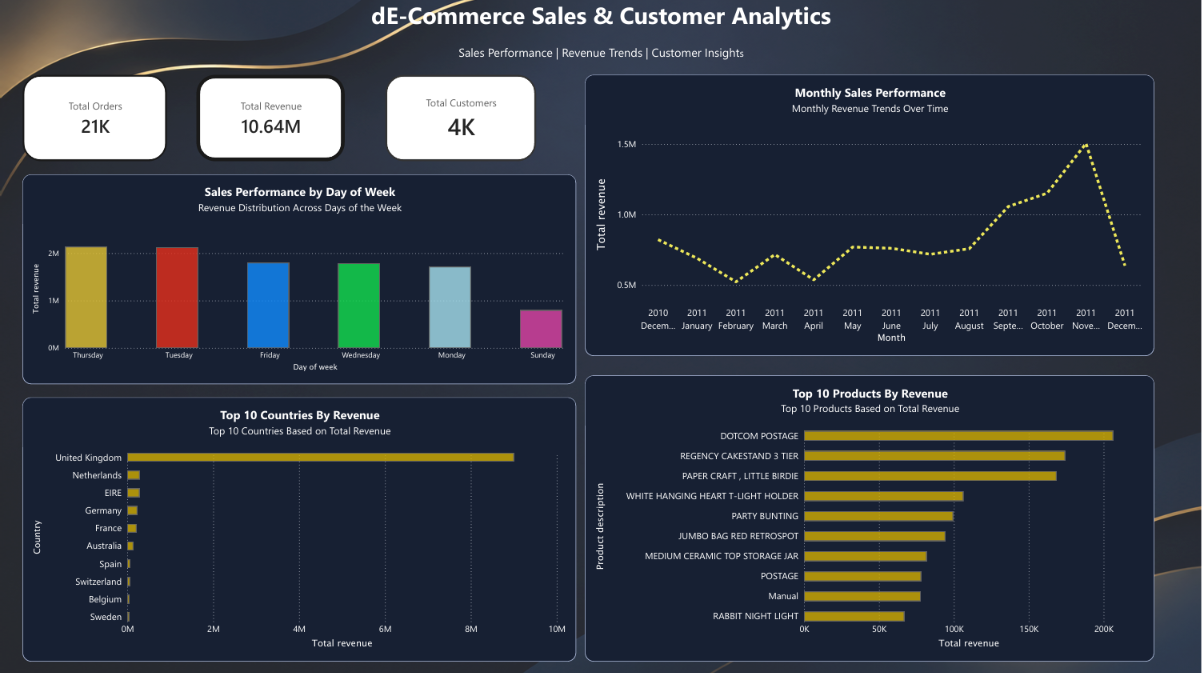

The page's visual inventory and layout, read from the dashboard file:
{"tool":"powerbi","page":{"name":"Page 1","canvas":[1920,1080],"ordinal":0},"visuals":[{"type":"textbox","box":[10,0,280,280],"z":0},{"type":"textbox","box":[0,0,1920.4,94.7],"z":1000},{"type":"textbox","box":[0,72,1920.4,67.9],"z":2000},{"type":"cardVisual","fields":{"Data":["cleaned_online_retail.Total Orders"]},"box":[35,121.4,230.5,137.9],"z":3000},{"type":"cardVisual","fields":{"Data":["cleaned_online_retail.Total Revenue"]},"box":[312.9,121.4,236.7,137.9],"z":4000},{"type":"cardVisual","fields":{"Data":["cleaned_online_retail.Total Customers"]},"box":[615.4,121.4,240.8,137.9],"z":5000},{"type":"lineChart","title":"Monthly Sales Performance","fields":{"Category":["cleaned_online_retail.MonthSales.Variation.Date Hierarchy.Year","cleaned_online_retail.MonthSales.Variation.Date Hierarchy.Month"],"Y":["Sum(cleaned_online_retail.TotalPrice)"]},"box":[934.5,121.4,909.8,448.7],"z":6000},{"type":"clusteredBarChart","title":"Top 10 Products By Revenue","fields":{"Category":["cleaned_online_retail.Description"],"Y":["Sum(cleaned_online_retail.TotalPrice)"]},"box":[934.5,601,909.8,456.9],"z":7000},{"type":"clusteredBarChart","title":"Top 10 Countries By Revenue","fields":{"Category":["cleaned_online_retail.Country"],"Y":["Sum(cleaned_online_retail.TotalPrice)"]},"box":[35,636,885.1,422],"z":8000},{"type":"clusteredColumnChart","title":"Sales Performance by Day of Week","fields":{"Category":["cleaned_online_retail.DayOfWeek"],"Y":["Sum(cleaned_online_retail.TotalPrice)"]},"box":[35,279.9,885.1,335.5],"z":9000}]}

Visuals, with their boxes in screenshot pixels (x1, y1, x2, y2), scaled from the page's 1920x1080 canvas onto the 1202x673 screenshot:
textbox: {"left": 6, "top": 0, "right": 182, "bottom": 174}
textbox: {"left": 0, "top": 0, "right": 1201, "bottom": 59}
textbox: {"left": 0, "top": 45, "right": 1201, "bottom": 87}
cardVisual - cleaned_online_retail.Total Orders: {"left": 22, "top": 76, "right": 166, "bottom": 162}
cardVisual - cleaned_online_retail.Total Revenue: {"left": 196, "top": 76, "right": 344, "bottom": 162}
cardVisual - cleaned_online_retail.Total Customers: {"left": 385, "top": 76, "right": 536, "bottom": 162}
"Monthly Sales Performance" lineChart: {"left": 585, "top": 76, "right": 1155, "bottom": 355}
"Top 10 Products By Revenue" clusteredBarChart: {"left": 585, "top": 375, "right": 1155, "bottom": 659}
"Top 10 Countries By Revenue" clusteredBarChart: {"left": 22, "top": 396, "right": 576, "bottom": 659}
"Sales Performance by Day of Week" clusteredColumnChart: {"left": 22, "top": 174, "right": 576, "bottom": 383}
